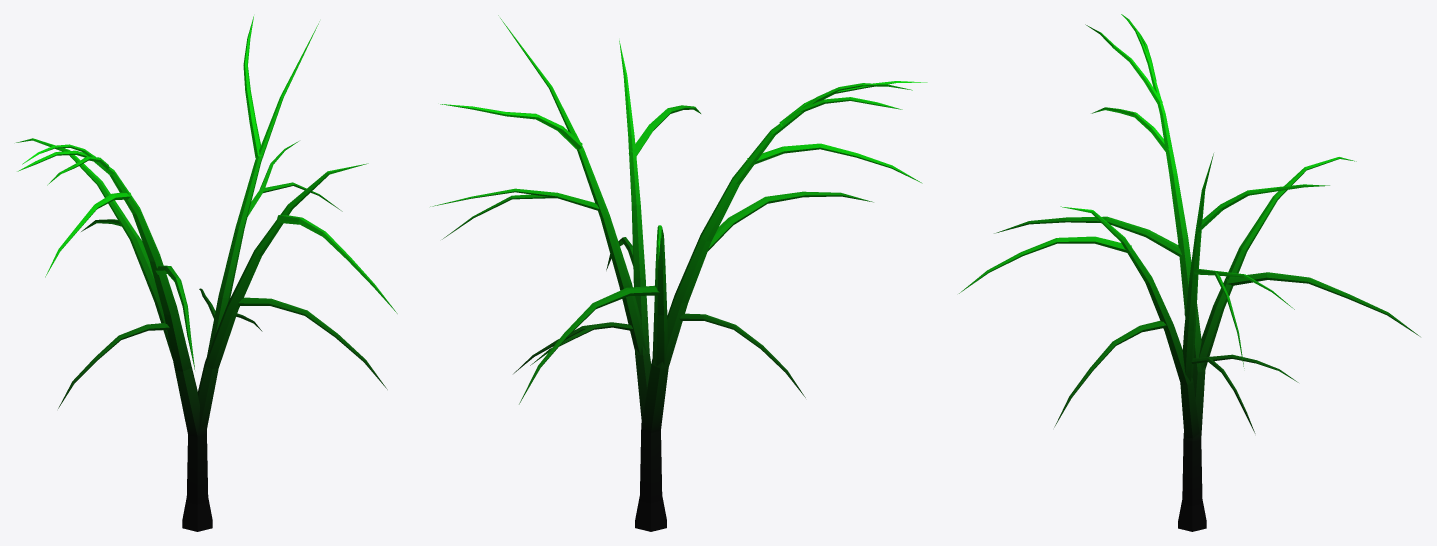
File: SM_Tree_Dead_03.fbx
3 renders of one model, left to right at view 1: azimuth 30°, elevation 25°; view 2: azimuth 150°, elevation 25°; view 3: azimuth 270°, elevation 25°, orthographic. The views are drawn at different scales.
Visible parts, largest first — view 1: SM_Tree_Dead_03; view 2: SM_Tree_Dead_03; view 3: SM_Tree_Dead_03.
Part boxes in pixels (<box>): SM_Tree_Dead_03: <box>16,16,397,531</box>; SM_Tree_Dead_03: <box>430,15,927,531</box>; SM_Tree_Dead_03: <box>959,14,1420,531</box>.
Bounding box in the file's own units: 807 × 923 × 892.
